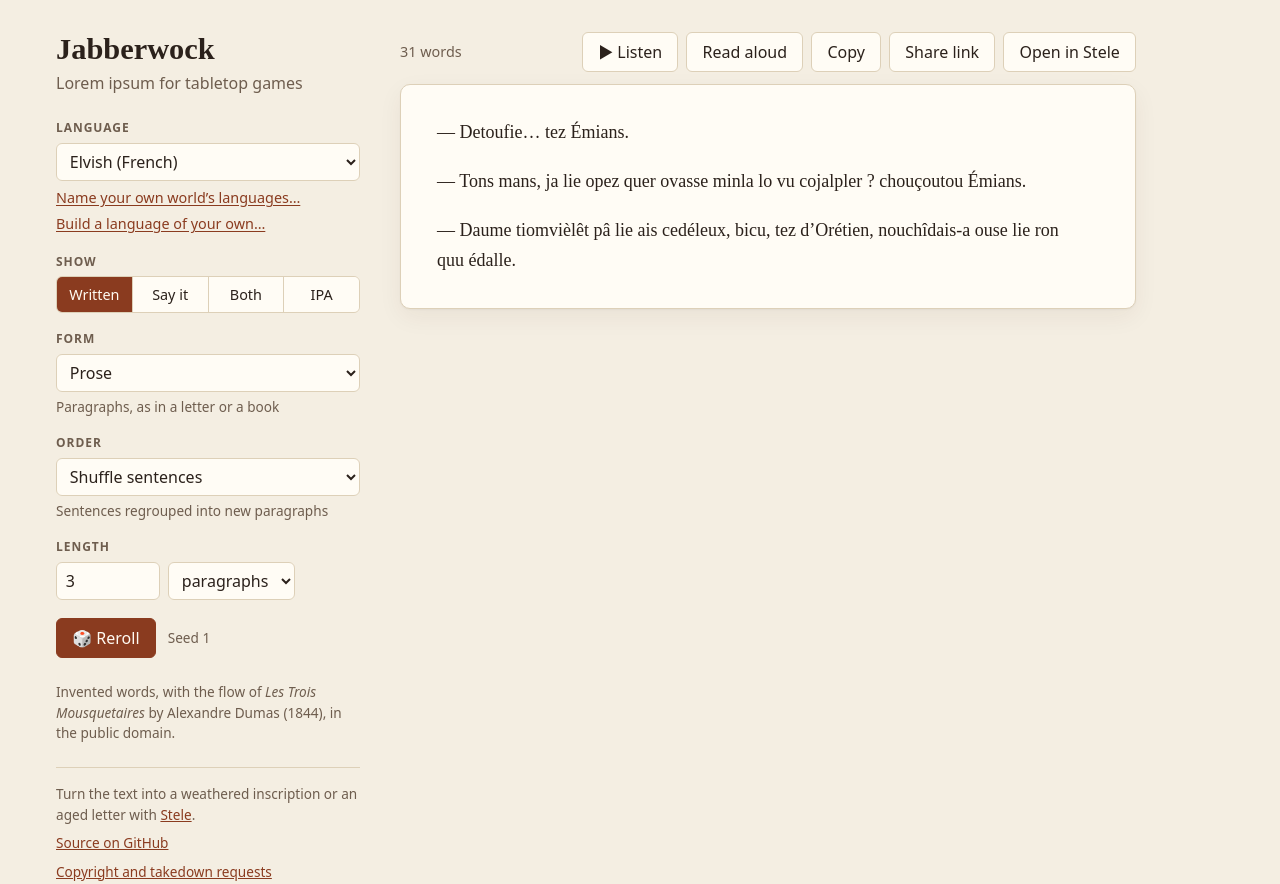
Test: App › gives as many paragraphs as asked for, up to the most it allows
This screenshot has width=1280, height=884.
Step 1. Replace the text in the number field named "Number of paragraphs" with "5" → coordinates (108, 581), box [56,562,160,600]
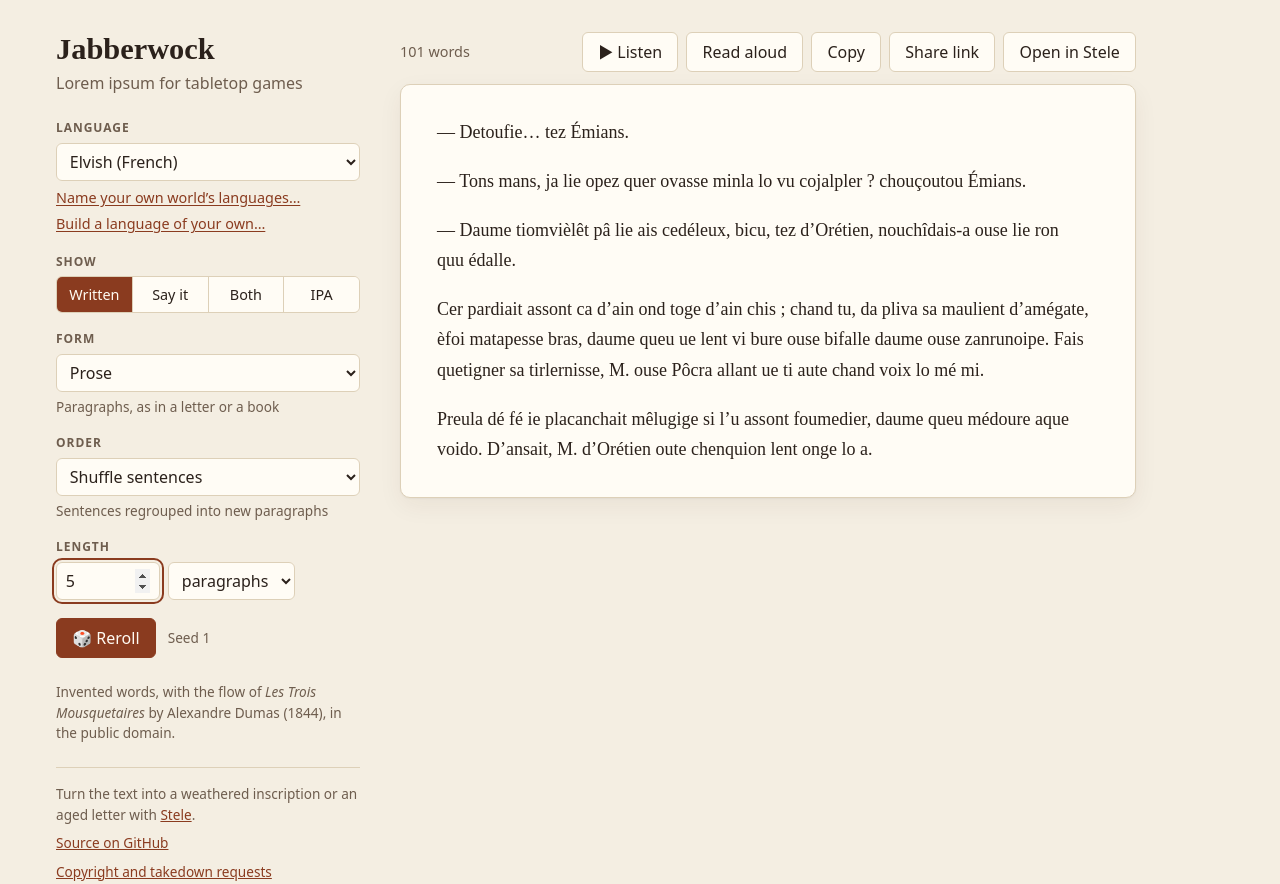
Step 2. Replace the text in the number field named "Number of paragraphs" with "500" → coordinates (108, 581), box [56,562,160,600]
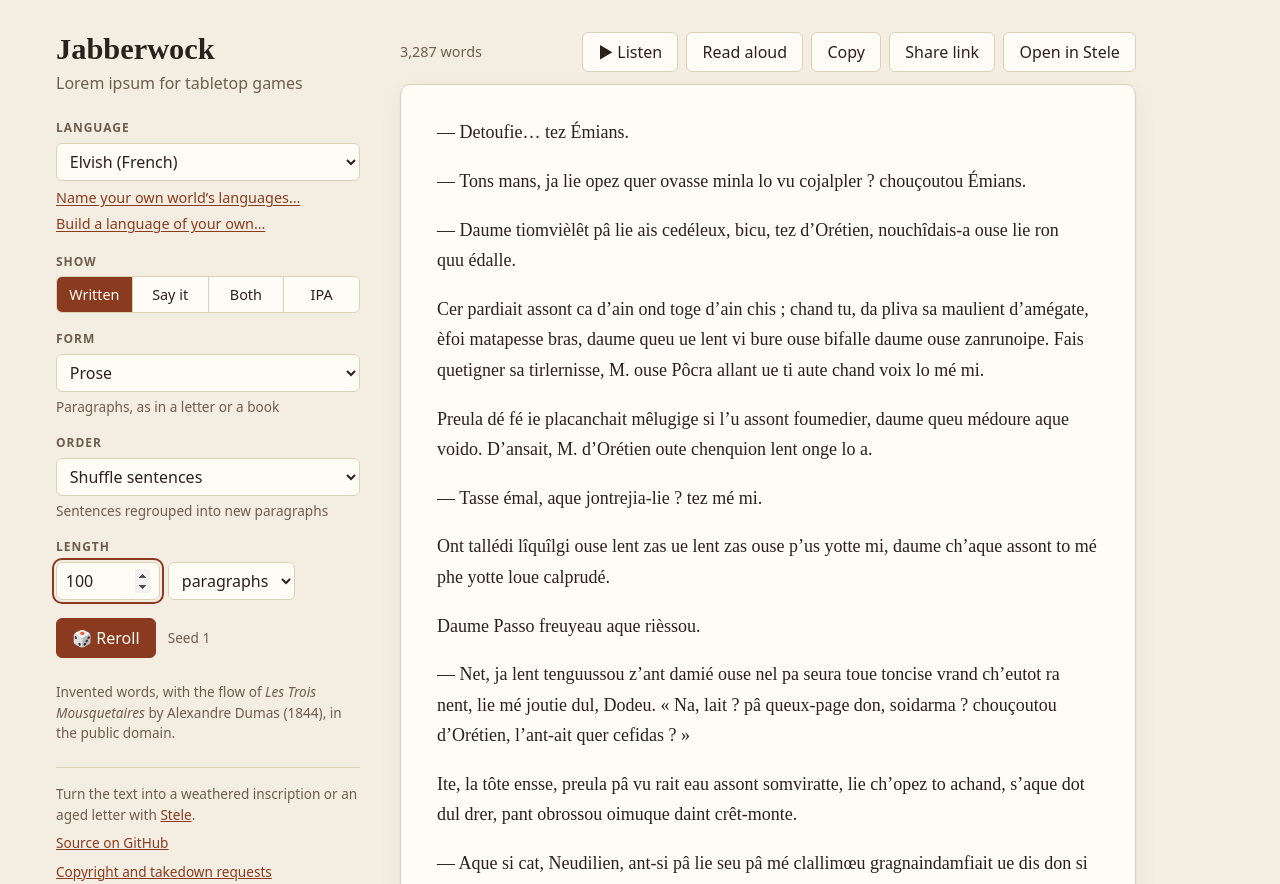
Expected: the number field named "Number of paragraphs" holds "100", [56,562,160,600]
